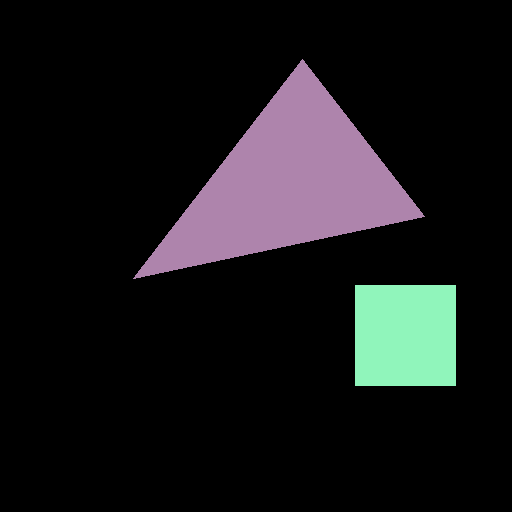square: (355, 285, 455, 385)
triangle: (133, 59, 424, 278)
